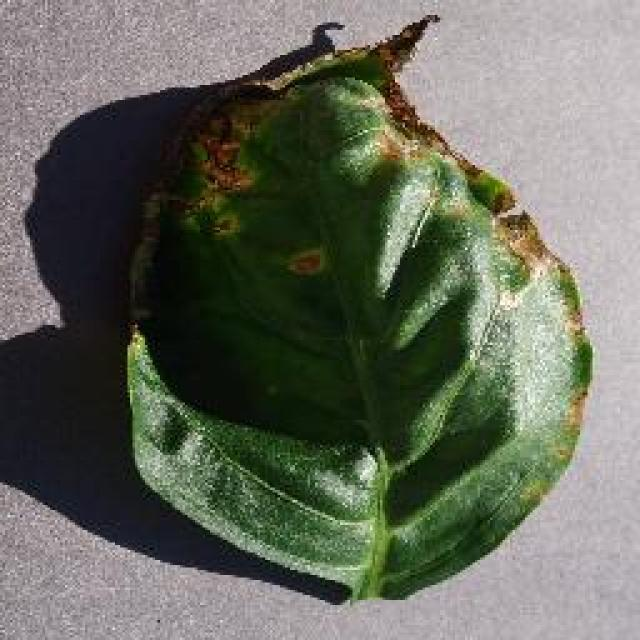Chilli_Bacterial_Spot: (117, 13, 595, 605), (165, 82, 290, 242), (190, 108, 255, 198), (280, 242, 330, 282), (200, 208, 242, 242)
